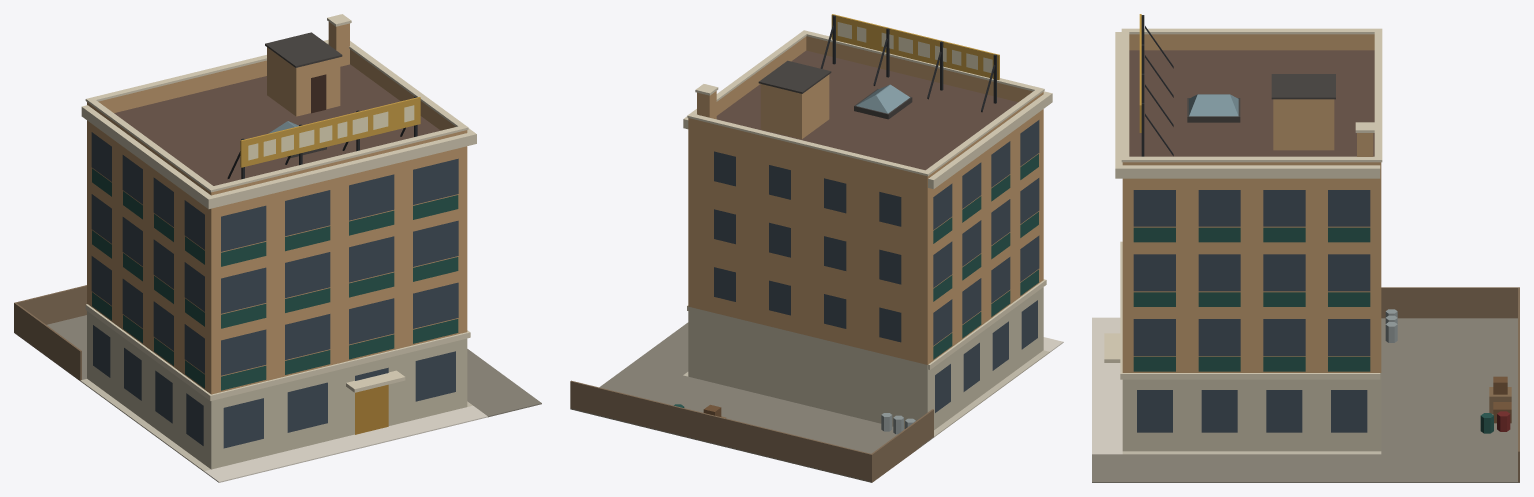
File: office_c.glb
3 views of the same model, side by side, from view 1: azimuth 30°, elevation 25°; view 2: azimuth 150°, elevation 25°; view 3: azimuth 270°, elevation 25° (orthographic). The views are drawn at different scales.
Parts seen in each view (by area): view 1: office_c; view 2: office_c; view 3: office_c.
Boxes of the visible parts, <box> form: office_c: <box>14,14,541,482</box>; office_c: <box>570,14,1063,482</box>; office_c: <box>1092,14,1519,482</box>.
Bounding box in the file's own units: 20 × 18.59 × 22.
